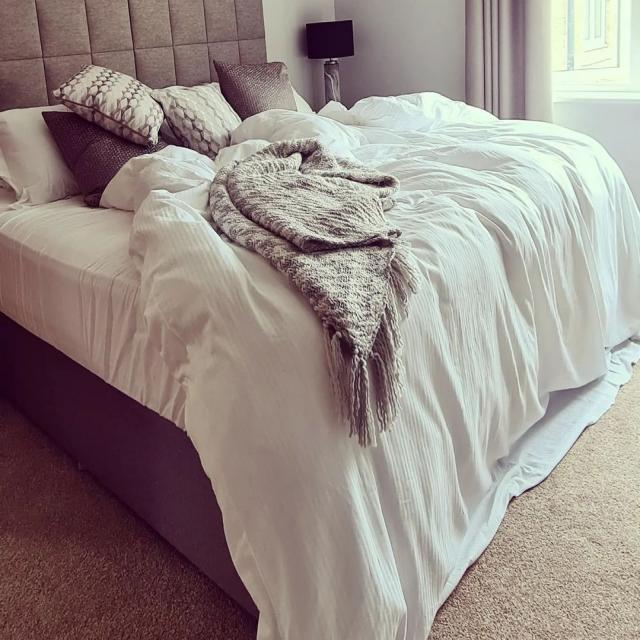bed: (5, 55, 606, 461)
